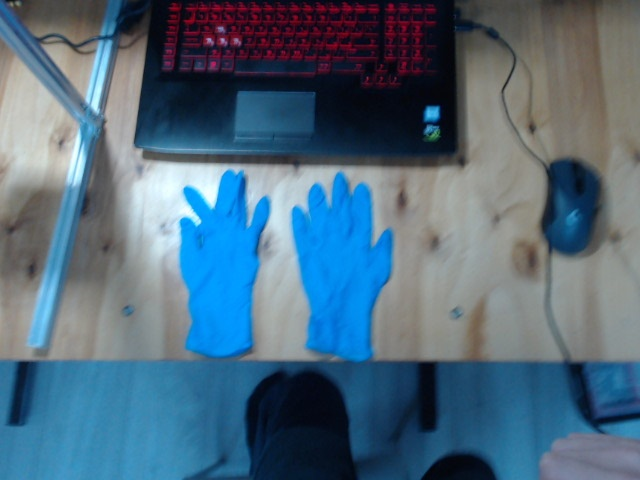medical_glove: (292, 172, 392, 362), (179, 169, 270, 357)
